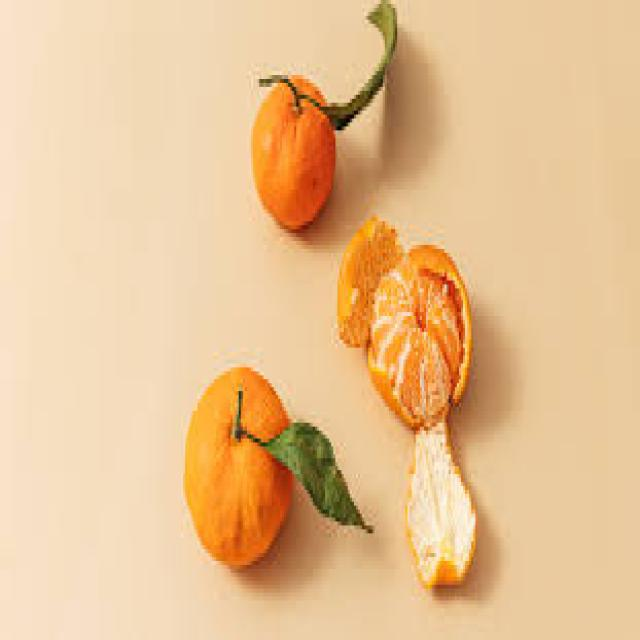orange: (245, 64, 347, 234)
